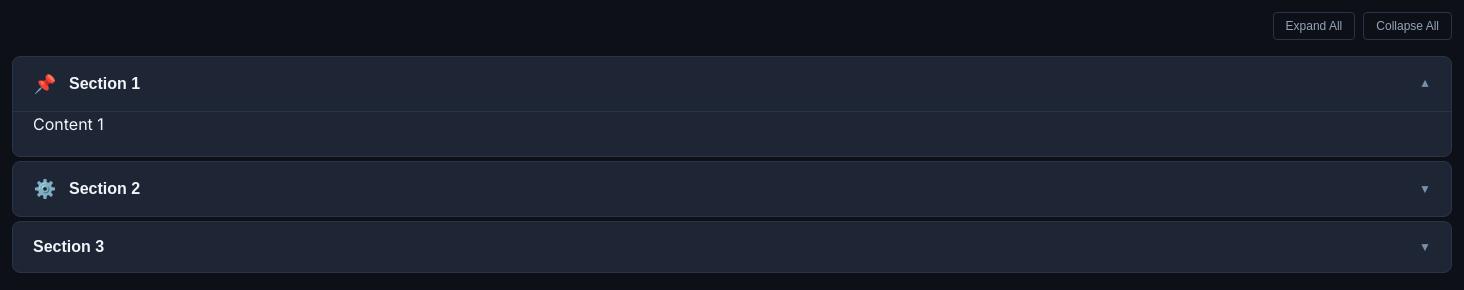
it: SettingsAccordion › expand/collapse behavior › collapses other sections when allowMultiple is false
The image size is (1464, 290).
Click the button "⚙️ Section 2 ▼" at (105, 188), box x1=13 y1=162 x2=1451 y2=216
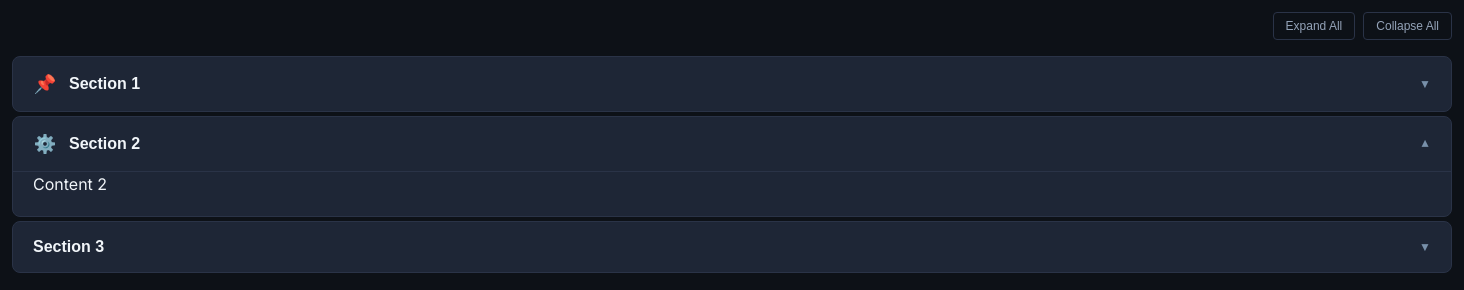
Result: the text "Content 1" is gone
Result: the text "Content 2" is shown at x1=33 y1=174 x2=107 y2=194
